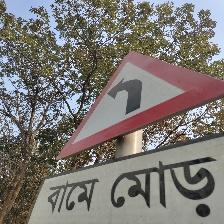Left-Turn: (29, 50, 224, 224)
